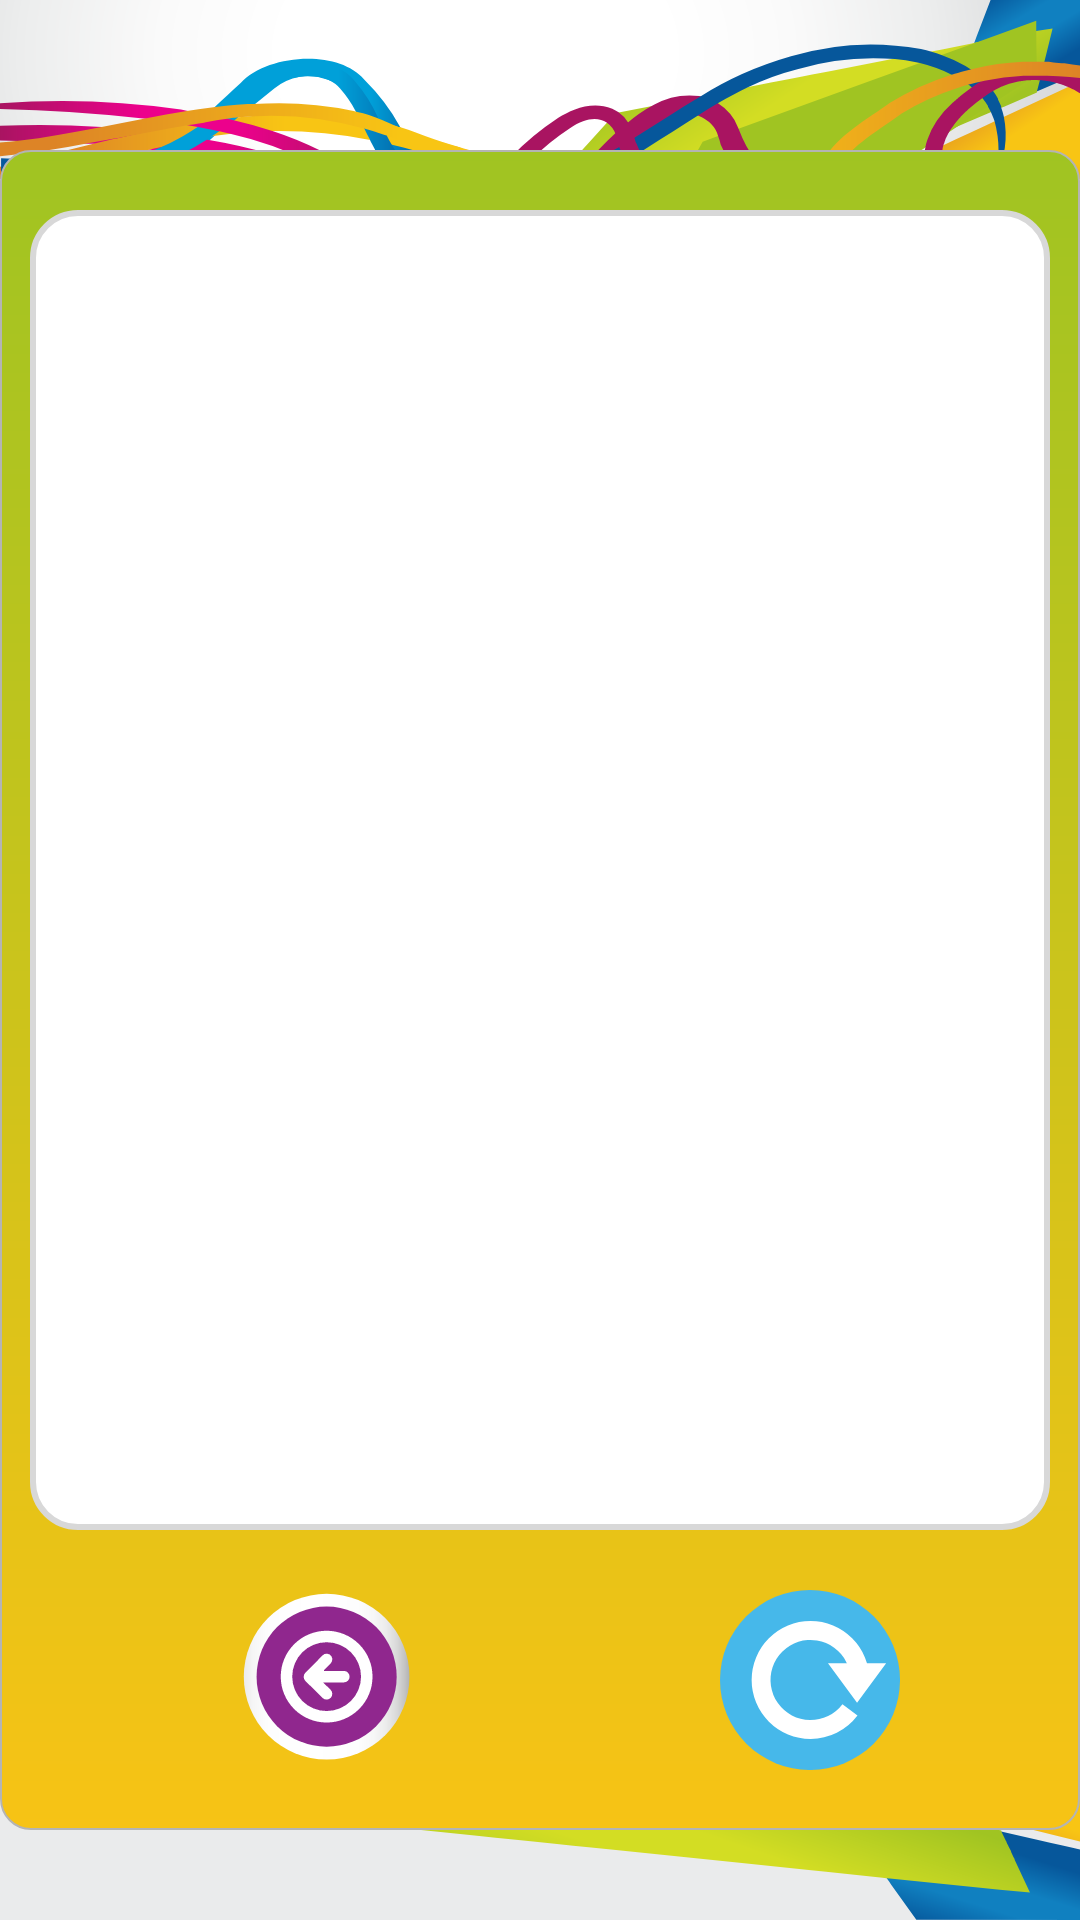

Screen size 1080 x 1920. Icon name, then its center in pixels as [x,y]:
back: [326,1676]
replay: [810,1680]
